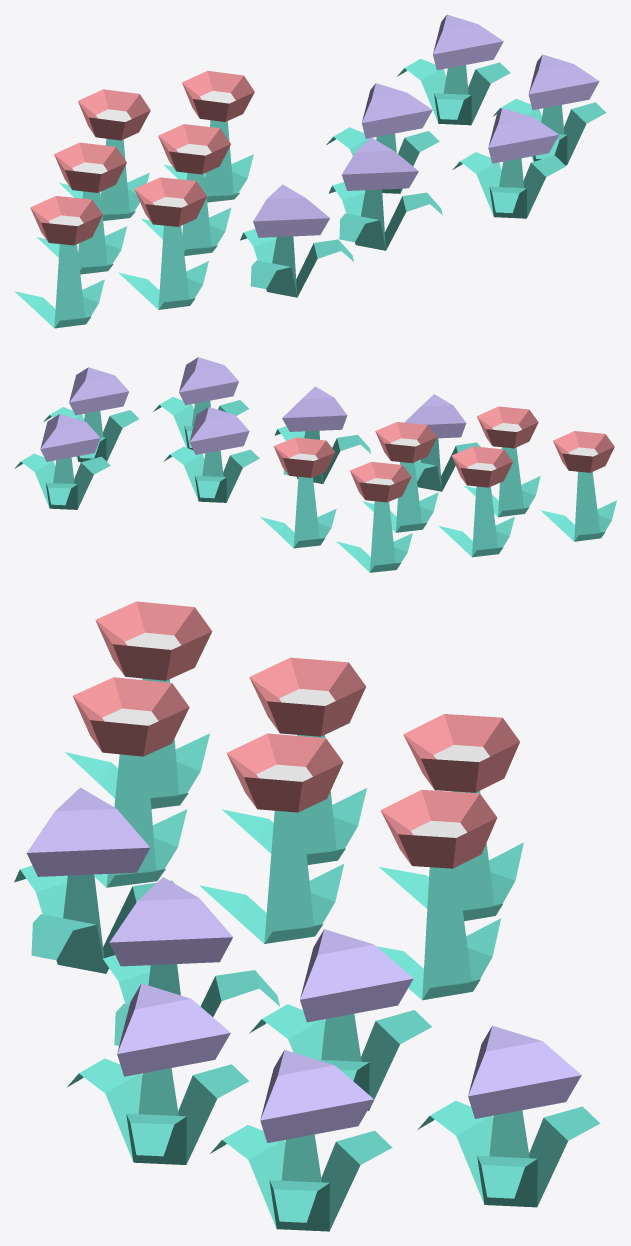
Rendered from flowers.glb.
The picture shows the model from 3 angles, top to bottom: view 1: azimuth 30°, elevation 25°; view 2: azimuth 150°, elevation 25°; view 3: azimuth 270°, elevation 25°; orthographic projection. The views are drawn at different scales.
Visible parts, largest first — view 1: flowers; view 2: flowers; view 3: flowers.
Boxes of the visible parts, x1,y1,x2,y2 form: flowers: (14, 14, 606, 328); flowers: (14, 357, 616, 572); flowers: (14, 601, 601, 1231).
Bounding box in the file's own units: 1.04 × 0.182 × 0.5399.
